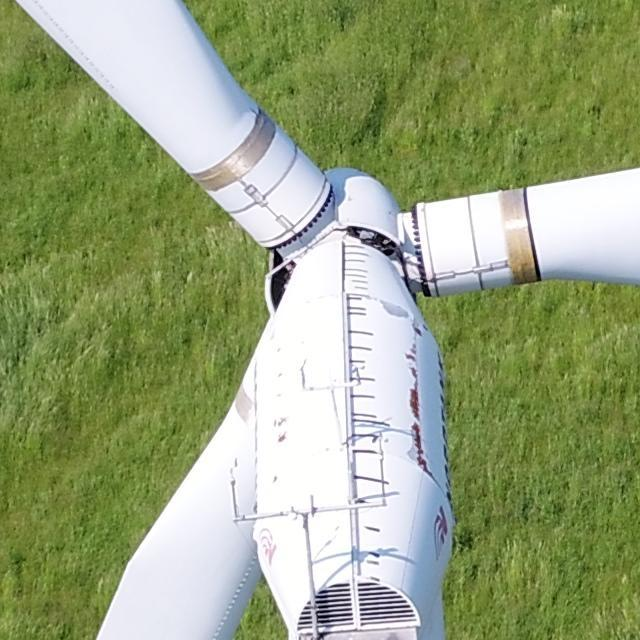damage: (407, 422, 433, 475), (227, 559, 254, 607), (209, 602, 235, 638), (409, 378, 422, 423), (275, 415, 288, 427), (409, 365, 419, 379), (413, 327, 424, 339), (276, 432, 288, 443), (405, 351, 417, 362), (409, 343, 418, 354)
